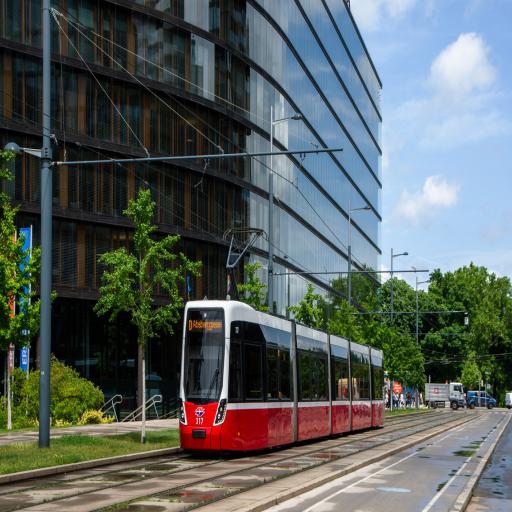Flexity: (179, 299, 384, 451)
